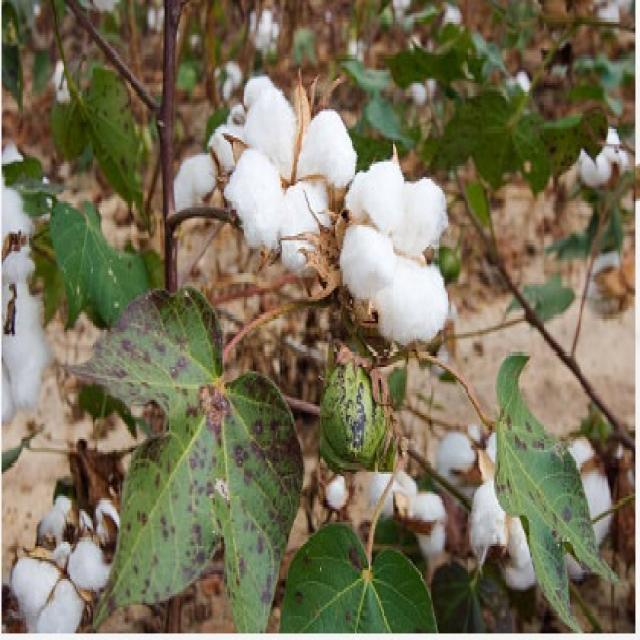Early Boll: (313, 349, 384, 462)
Matured Cotton Boll: (219, 84, 355, 284), (330, 167, 466, 352), (2, 466, 141, 628), (0, 167, 45, 419)
